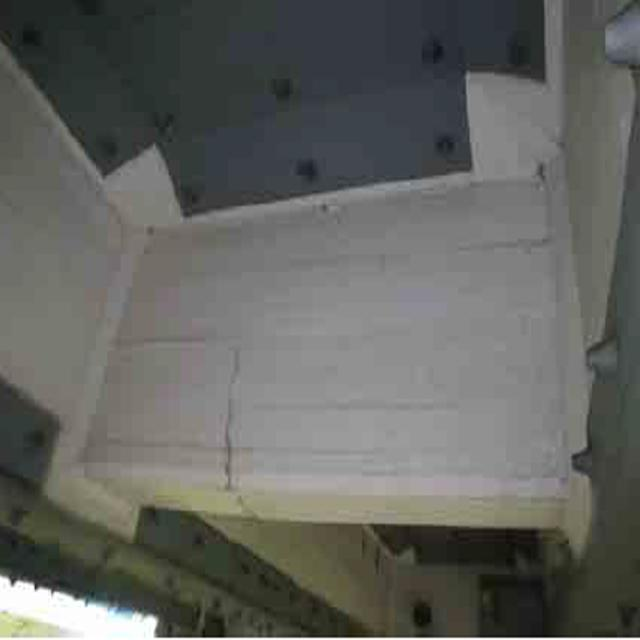crack: (207, 347, 254, 504)
